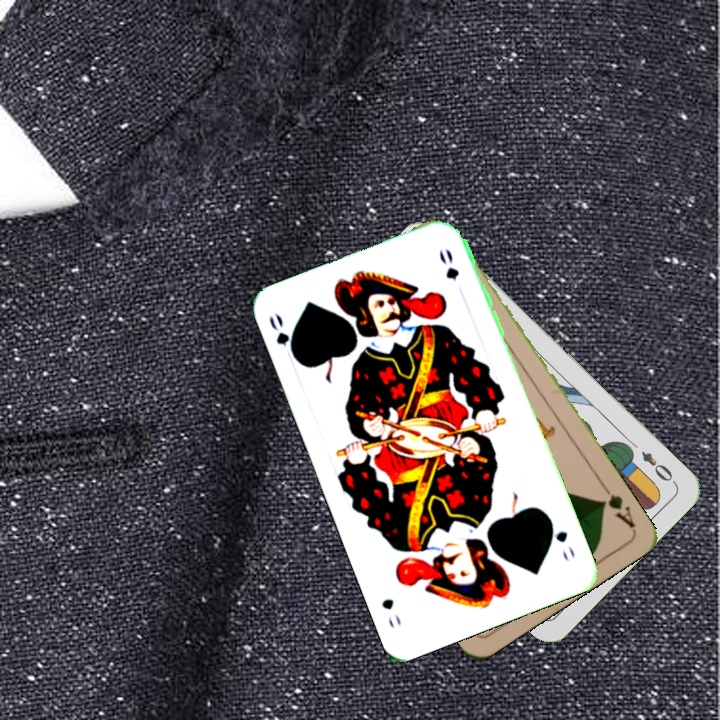EO: (637, 447, 679, 487)
GA: (596, 480, 638, 531)
GO: (265, 309, 301, 364), (545, 514, 578, 565)
